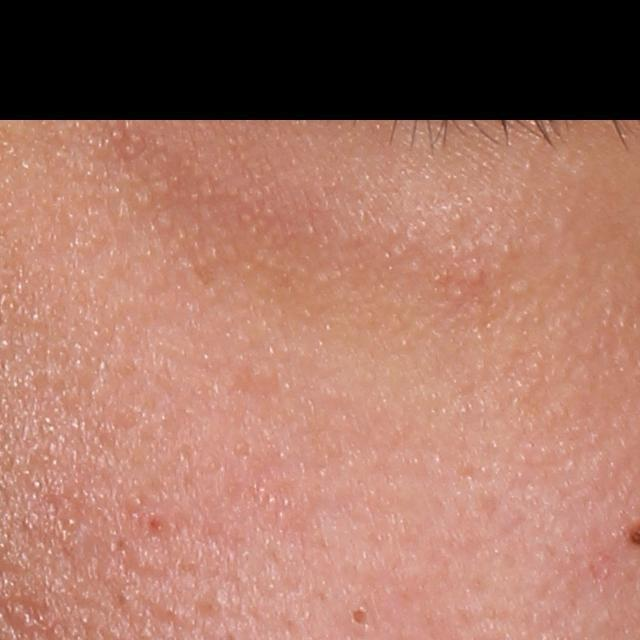comedo: (346, 601, 372, 631), (467, 264, 488, 286)
